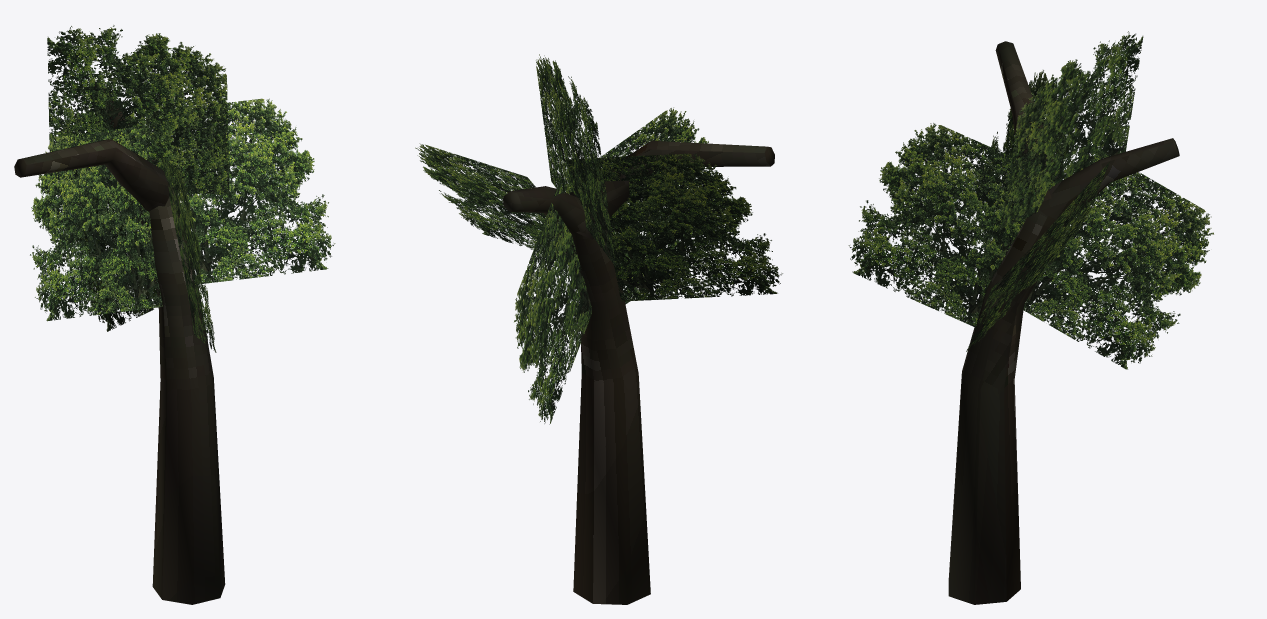
Rendered from Tree002.glb.
3 renders of one model, left to right at view 1: azimuth 30°, elevation 25°; view 2: azimuth 150°, elevation 25°; view 3: azimuth 270°, elevation 25°, orthographic. The views are drawn at different scales.
Parts seen in each view (by area): view 1: Tree001.001; view 2: Tree001.001; view 3: Tree001.001.
Part boxes in pixels (x1,y1,x2,y2): Tree001.001: (14, 25, 335, 604); Tree001.001: (415, 54, 782, 604); Tree001.001: (848, 31, 1213, 604).
Size of the model in its own units: 8.48 by 12.79 by 8.88.
1 material, 1 textured.
